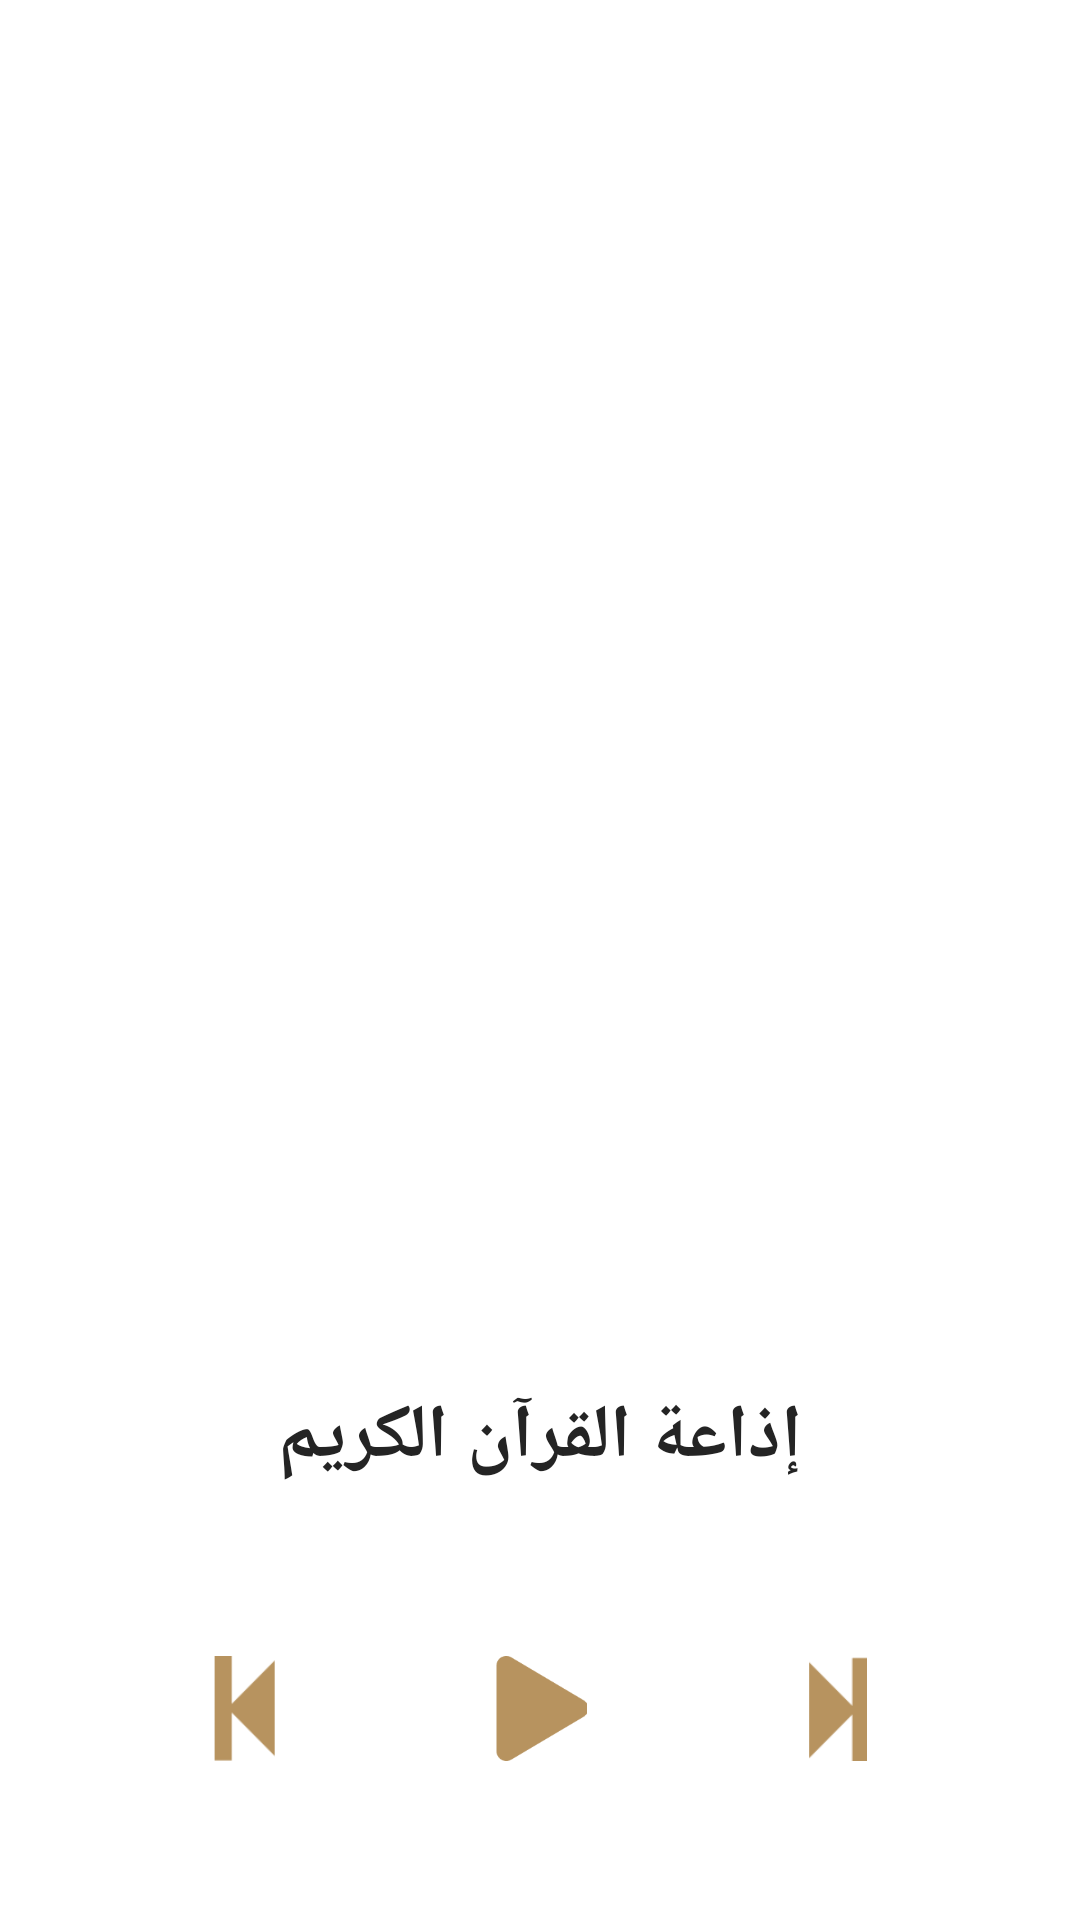

Where icons sit on this 1080px x 1920px app screen, as bbox(x1, y1, x2, y2):
back: bbox(214, 1656, 275, 1761)
front: bbox(809, 1657, 867, 1761)
play: bbox(496, 1656, 587, 1761)
